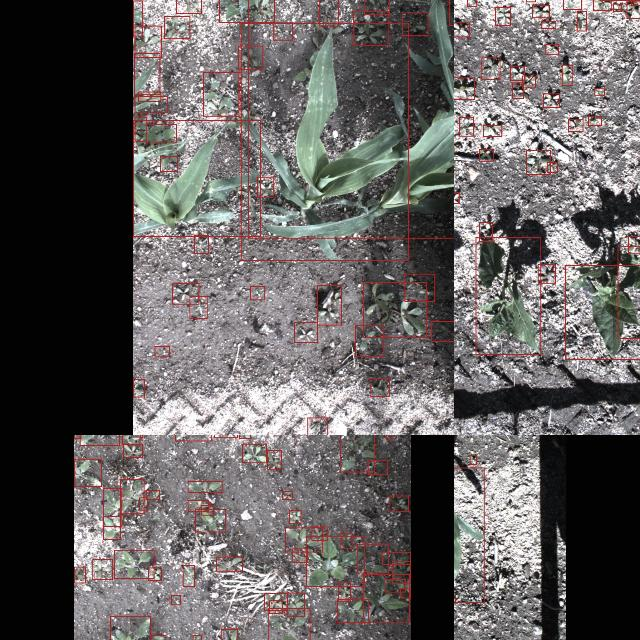crop: (248, 0, 454, 237), (240, 22, 408, 260), (133, 120, 260, 236), (476, 236, 540, 354), (565, 265, 640, 359), (617, 246, 640, 338), (133, 52, 159, 94), (134, 96, 166, 112)
weed: (363, 282, 427, 336), (306, 536, 364, 586), (363, 573, 409, 621), (202, 71, 238, 115), (268, 608, 309, 640), (339, 435, 374, 471), (352, 11, 388, 45), (218, 0, 273, 21), (113, 550, 153, 578), (109, 615, 149, 640), (354, 324, 384, 356), (317, 285, 341, 325), (286, 527, 322, 551), (119, 478, 143, 514), (358, 544, 388, 572), (404, 274, 434, 300), (134, 26, 160, 56), (74, 458, 100, 486), (338, 598, 368, 622), (102, 488, 120, 526), (195, 509, 225, 531), (238, 45, 262, 69), (526, 150, 550, 174), (172, 282, 198, 304), (402, 12, 428, 34), (145, 123, 175, 141), (164, 16, 188, 38), (318, 0, 338, 25), (431, 320, 454, 340), (242, 443, 266, 462), (294, 322, 316, 342), (286, 592, 304, 616), (454, 77, 474, 98), (92, 559, 112, 579), (481, 57, 499, 79), (392, 561, 410, 583), (264, 592, 286, 610), (102, 516, 120, 538), (190, 296, 207, 318), (187, 481, 221, 492), (216, 556, 242, 570), (307, 417, 327, 435), (370, 378, 390, 396), (256, 176, 274, 196), (272, 22, 292, 40), (79, 435, 119, 444), (132, 1, 142, 36), (382, 552, 410, 564), (175, 0, 200, 13), (363, 0, 388, 13), (458, 116, 474, 136), (494, 7, 510, 26), (389, 495, 408, 511), (134, 116, 146, 140), (538, 264, 554, 282), (385, 578, 405, 592), (368, 460, 388, 474), (122, 443, 142, 457), (267, 449, 281, 468), (182, 564, 194, 586), (194, 235, 208, 253), (478, 222, 492, 240), (482, 124, 502, 136), (160, 156, 177, 170), (543, 93, 559, 107), (626, 1, 640, 17), (311, 526, 327, 540), (292, 548, 308, 562), (138, 91, 160, 101), (186, 500, 208, 510), (338, 582, 350, 600), (132, 379, 144, 396), (561, 64, 571, 84), (576, 10, 586, 30), (454, 22, 468, 36), (510, 66, 524, 80), (628, 236, 640, 252), (532, 5, 548, 17), (511, 82, 523, 98), (593, 0, 611, 10), (341, 532, 352, 548), (220, 629, 236, 640), (74, 566, 85, 582), (250, 286, 264, 298), (478, 149, 492, 161), (568, 119, 582, 131), (268, 600, 282, 612), (563, 0, 581, 9), (121, 435, 139, 444), (522, 75, 534, 87), (289, 510, 301, 522), (148, 568, 160, 580), (154, 346, 168, 356), (145, 489, 159, 499), (200, 505, 213, 515), (546, 162, 558, 172), (546, 43, 558, 53), (588, 115, 600, 125), (541, 20, 555, 28), (400, 587, 410, 597), (170, 594, 180, 604), (139, 497, 147, 509), (150, 634, 165, 640), (612, 3, 622, 11), (282, 491, 292, 499), (469, 454, 476, 464), (466, 0, 476, 6), (594, 88, 604, 94), (191, 634, 200, 640), (454, 191, 458, 202), (386, 435, 392, 439), (238, 435, 249, 437), (140, 435, 142, 437)
